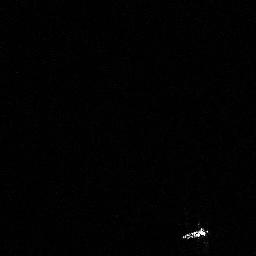ship: (179, 224, 209, 240)
